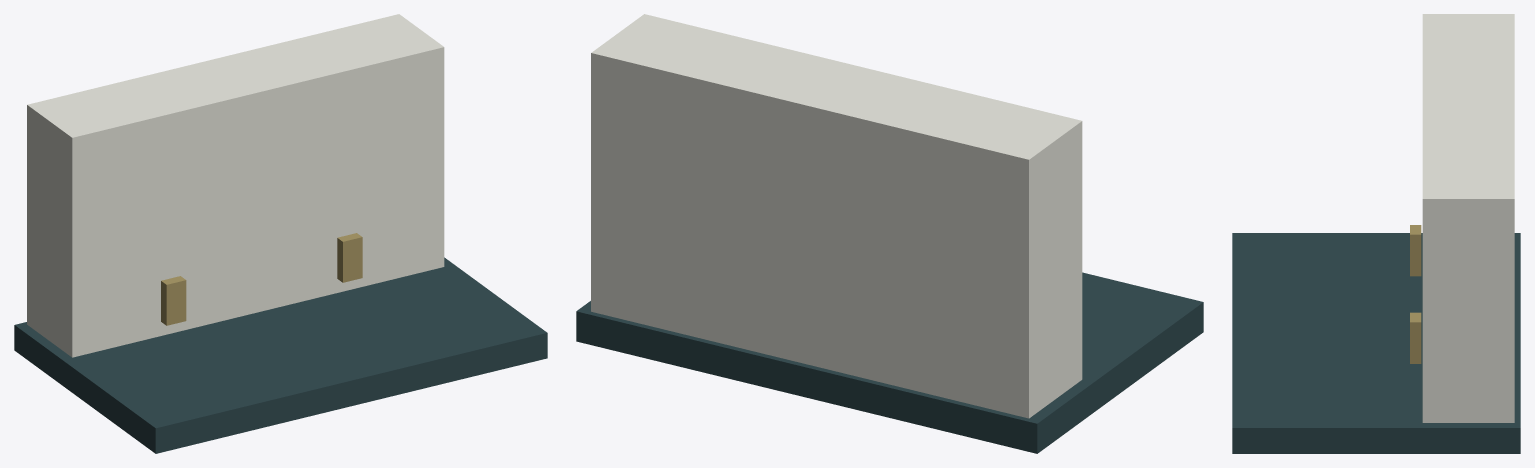
The model's file is robot_vacuum_dock.glb.
3 views of the same model, side by side, from view 1: azimuth 30°, elevation 25°; view 2: azimuth 150°, elevation 25°; view 3: azimuth 270°, elevation 25° (orthographic). The views are drawn at different scales.
Visible parts, largest first — view 1: dock-back, dock-base, charging-contact (×2); view 2: dock-back, dock-base; view 3: dock-base, dock-back, charging-contact (×2).
Part boxes in pixels (x1,y1,x2,y2): dock-back: [27, 14, 444, 357]; dock-base: [14, 257, 547, 453]; charging-contact (×2): [161, 233, 362, 325]; dock-back: [591, 14, 1082, 418]; dock-base: [576, 272, 1203, 453]; dock-base: [1232, 233, 1520, 453]; dock-back: [1422, 14, 1514, 422]; charging-contact (×2): [1410, 225, 1421, 363].
Bounding box in the file's own units: 0.4 × 0.24 × 0.25.
